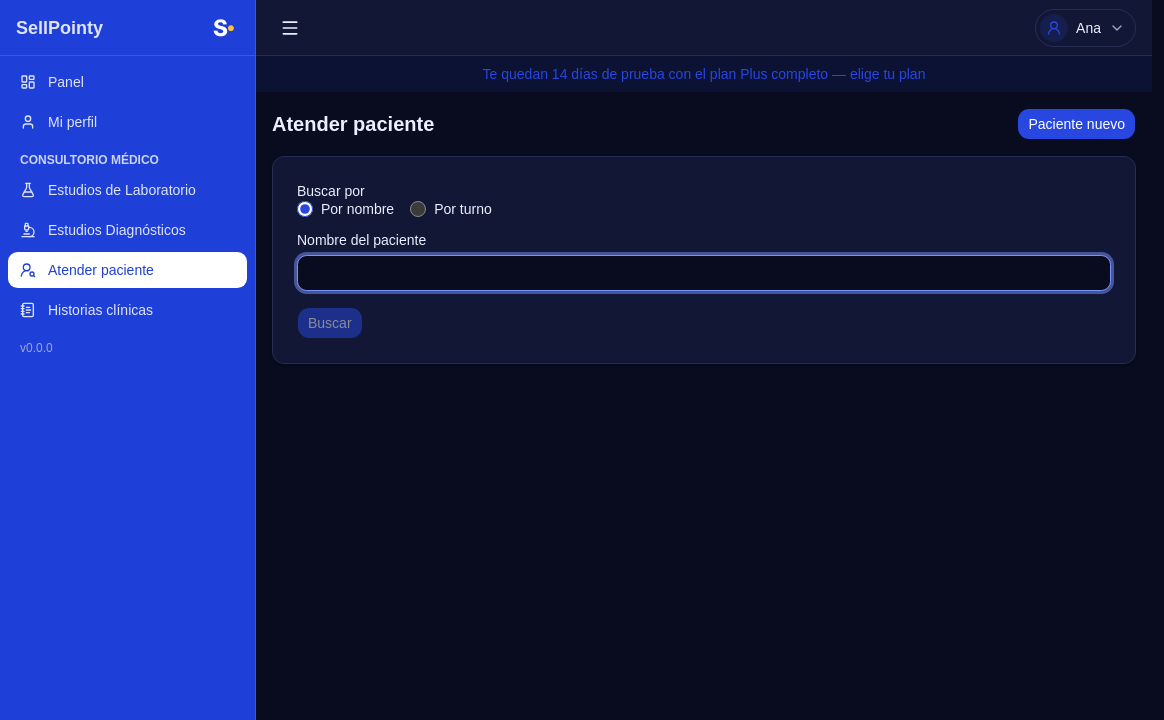
Test: Atender paciente (F9-CLINIC-WEB-07) › sin resultados sale el vacío con el link «Paciente nuevo»; sin :attend no hay botón
In the field labelled "Nombre del paciente": [704, 273] box [297,255,1111,291], type "nadie"
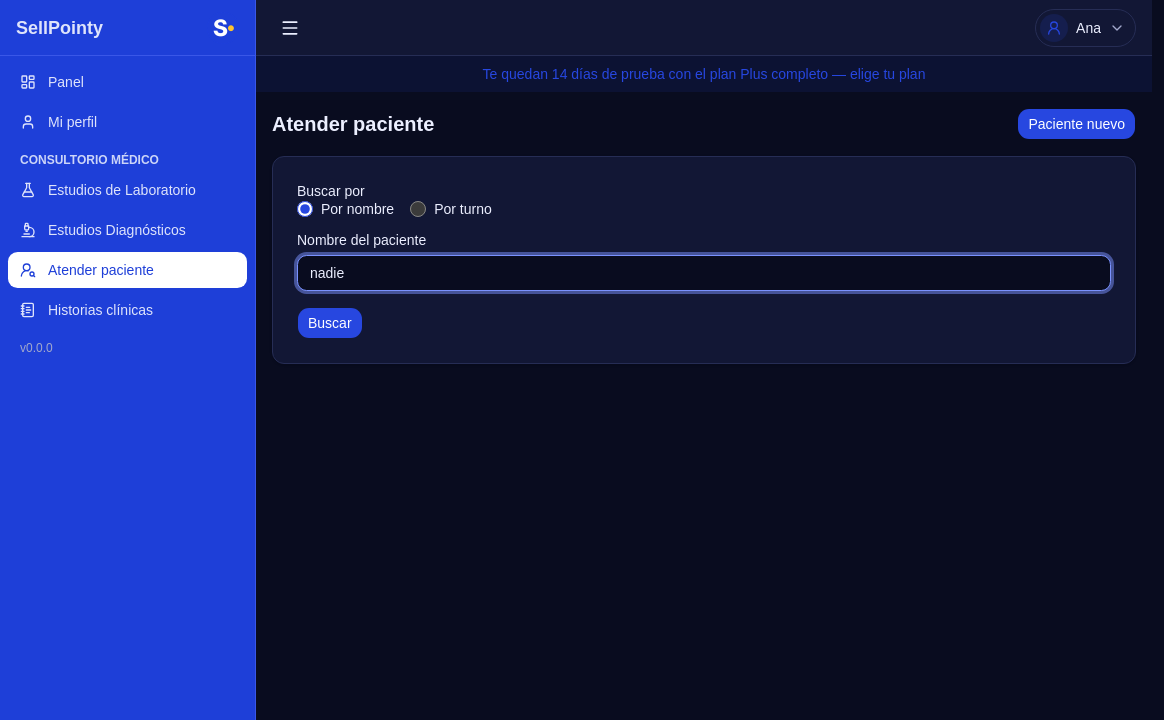
Click the button "Buscar": [330, 323] box [297,307,363,339]
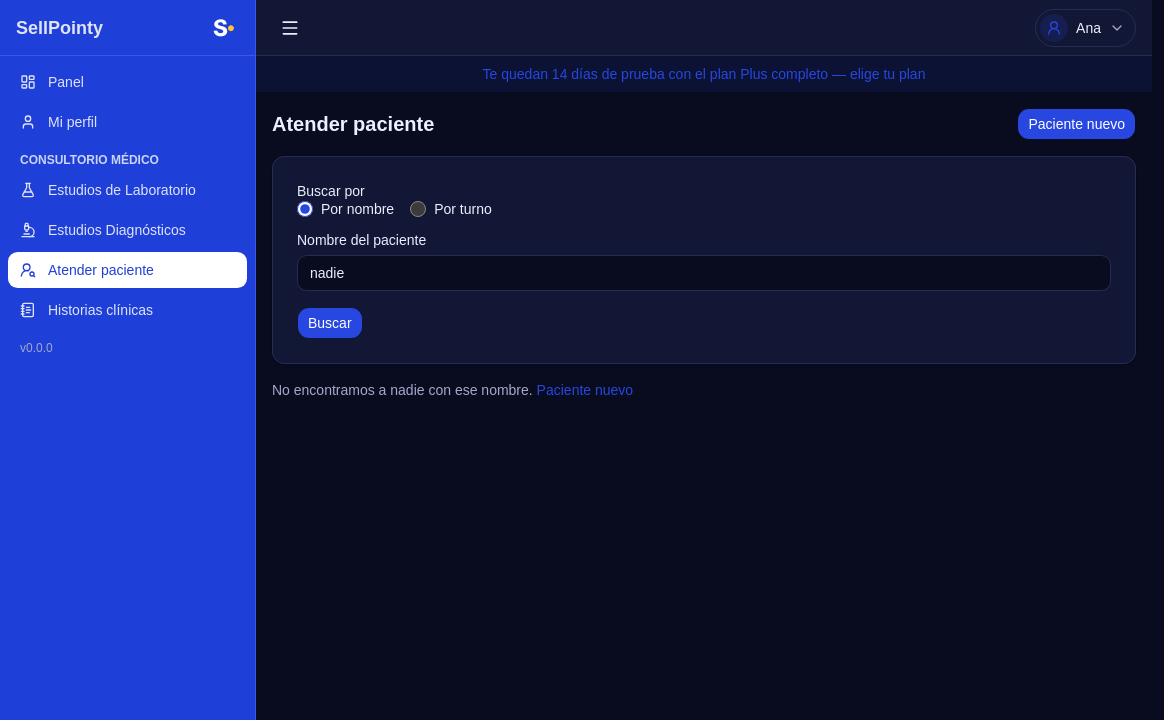
Expected: the text "No encontramos a nadie con ese nombre." is shown, [272,382,533,398]
